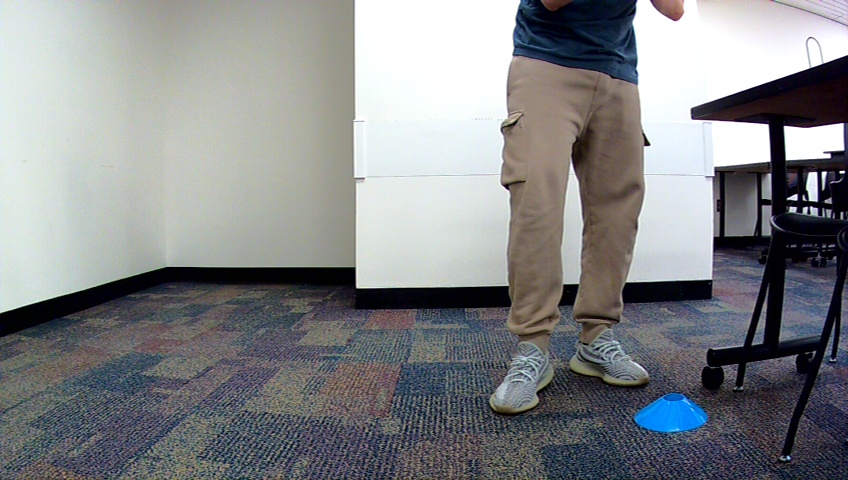cone: (634, 392, 710, 434)
